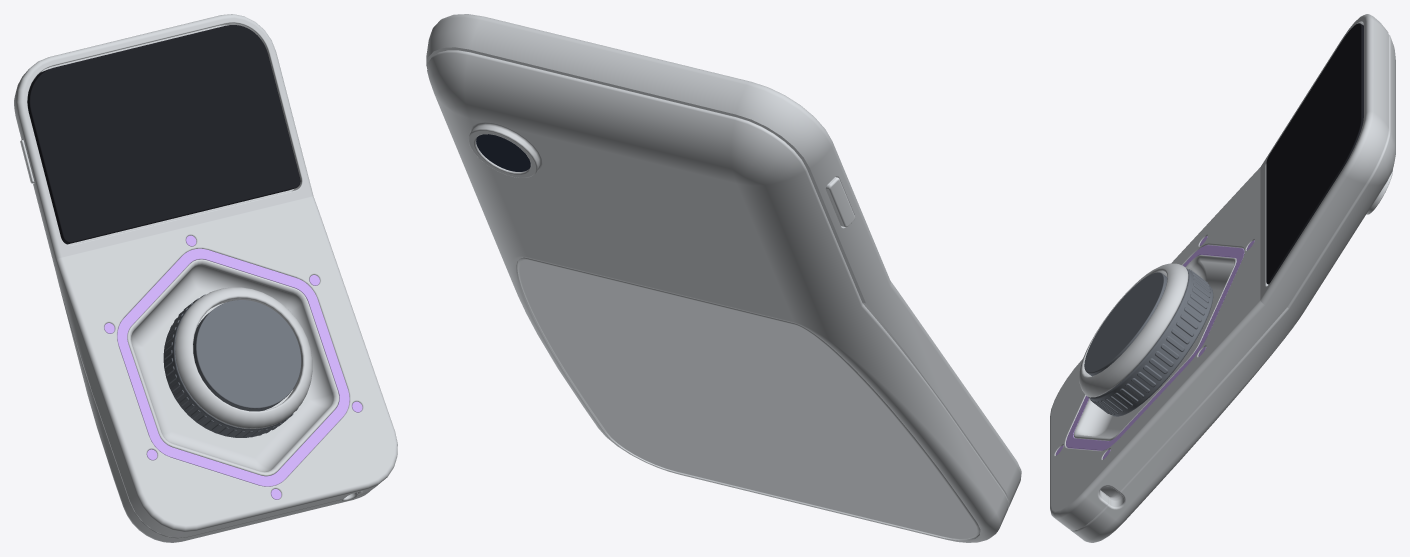
3 views of the same model, side by side, from view 1: azimuth 30°, elevation 25°; view 2: azimuth 150°, elevation 25°; view 3: azimuth 270°, elevation 25° (orthographic). The views are drawn at different scales.
Parts seen in each view (by area): view 1: Bass top, Screen, Button, LED, Born, Bass bottom, Dial; view 2: Bass bottom, Back, Bass top, Camera, Power button; view 3: Bass top, Screen, Bass bottom, Dial, Born, Button, LED.
Part boxes in pixels (bbox=[...]): Bass top: bbox=[14, 14, 397, 537]; Screen: bbox=[27, 25, 300, 244]; Button: bbox=[193, 300, 301, 411]; LED: bbox=[117, 248, 349, 486]; Born: bbox=[175, 287, 312, 428]; Bass bottom: bbox=[59, 285, 377, 542]; Dial: bbox=[163, 292, 298, 437]; Bass bottom: bbox=[427, 50, 1008, 542]; Back: bbox=[517, 257, 980, 539]; Bass top: bbox=[426, 14, 1021, 507]; Camera: bbox=[476, 134, 530, 171]; Power button: bbox=[825, 177, 855, 227]; Bass top: bbox=[1050, 14, 1388, 530]; Screen: bbox=[1266, 23, 1363, 284]; Bass bottom: bbox=[1070, 34, 1395, 542]; Dial: bbox=[1088, 268, 1213, 416]; Born: bbox=[1079, 263, 1188, 397]; Button: bbox=[1084, 272, 1167, 376]; LED: bbox=[1066, 245, 1244, 450].
Bounding box in the file's own units: 6.01 × 8.66 × 6.38.
